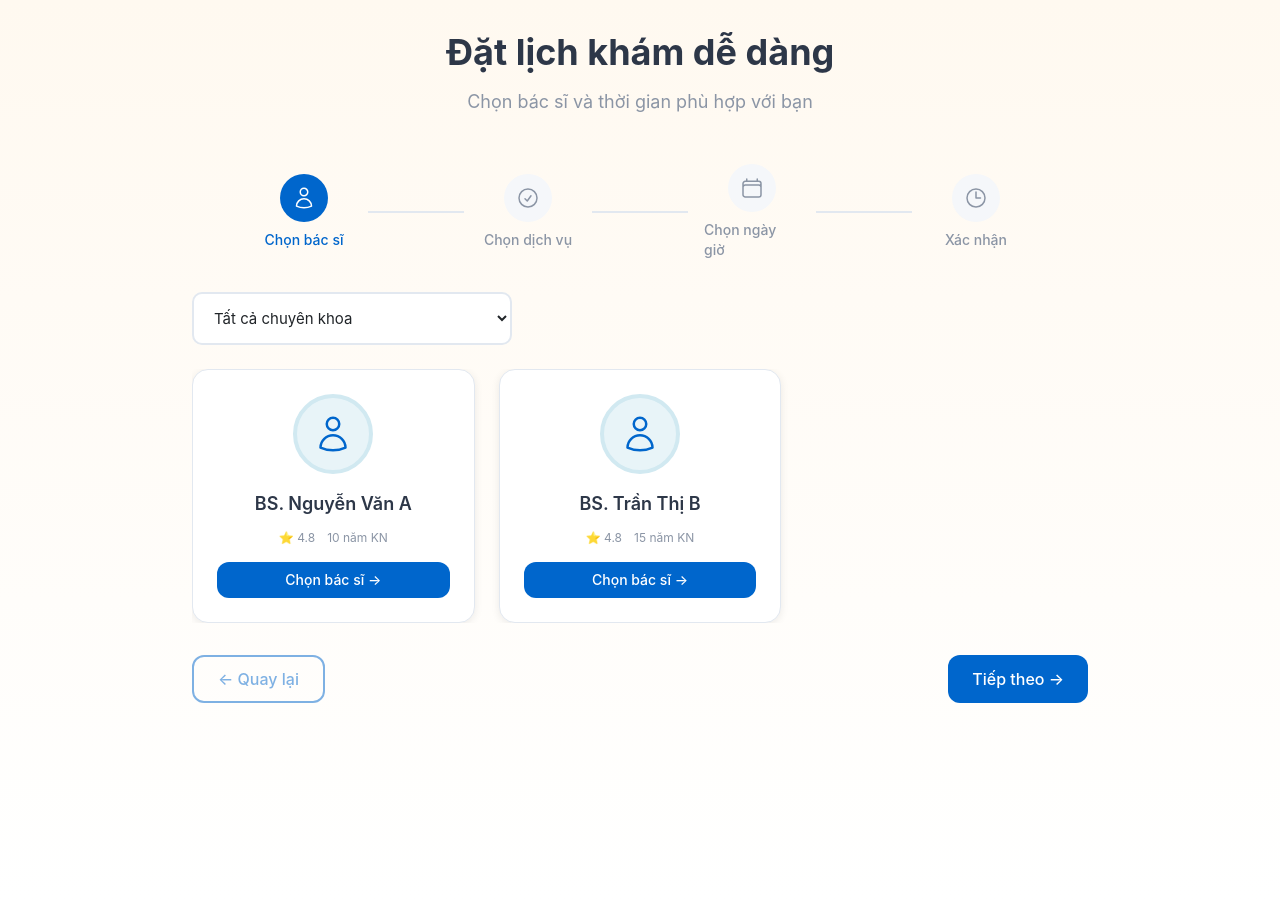
Test case: BookingWizard Component › should proceed to step 2 after selecting doctor
Expected: the heading "BS. Nguyễn Văn A" is shown, [255,490,412,518]
Click the button "Chọn bác sĩ →" below "10" at (333, 580), box [217,562,450,598]
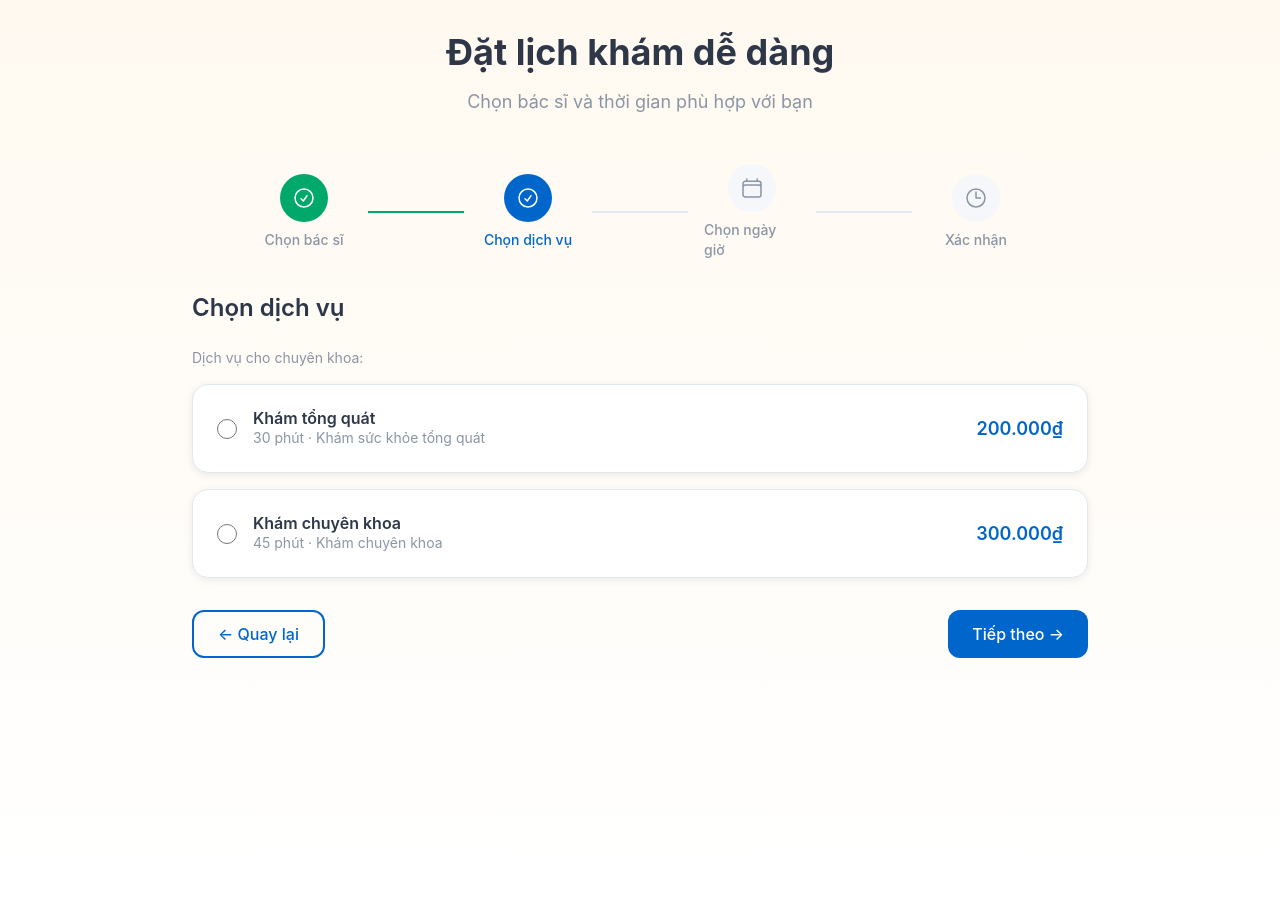
Expected: the heading "Chọn dịch vụ" is shown, [192,293,344,322]
Expected: the heading "Khám tổng quát" is shown, [253,408,375,428]
